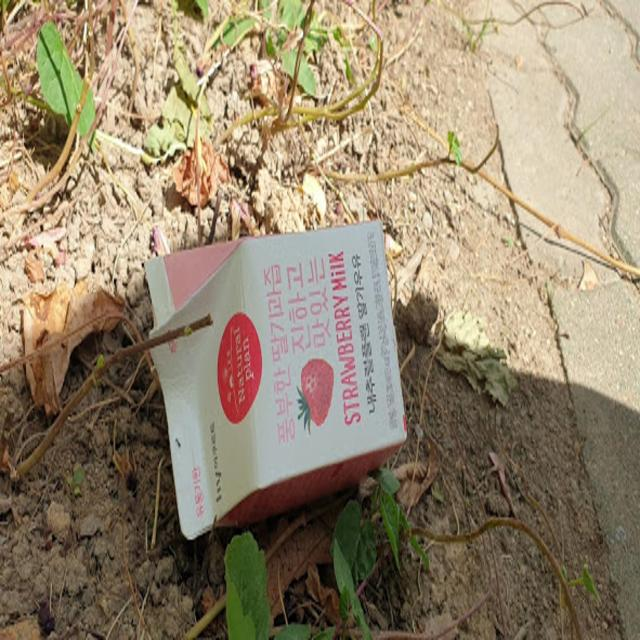paperpack: (145, 219, 407, 538)
